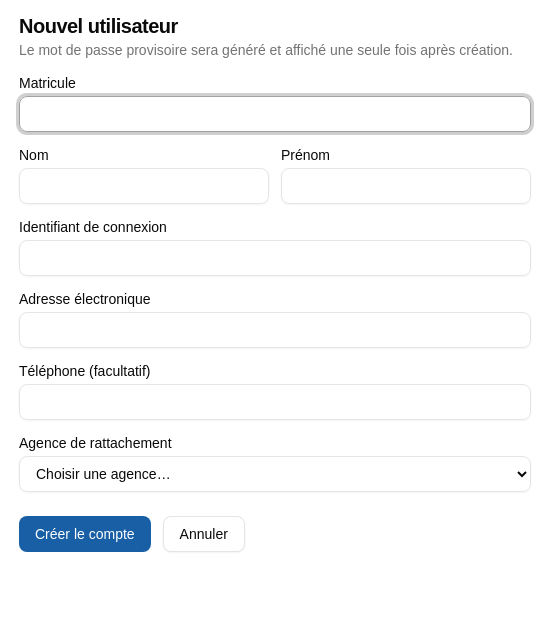
PageCreationUtilisateur › 409 : signale un identifiant déjà utilisé
Type "MAT-001" into the field labelled "Matricule". click: (275, 114)
box: [19,96,531,132]
Type "Diallo" into the field labelled "Nom". click: (144, 186)
box: [19,168,269,204]
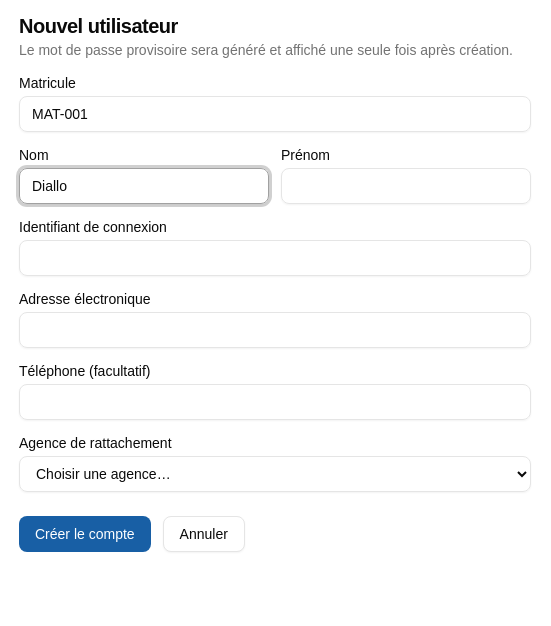
Type "Amadou" into the field labelled "Prénom". click: (406, 186)
box: [281,168,531,204]
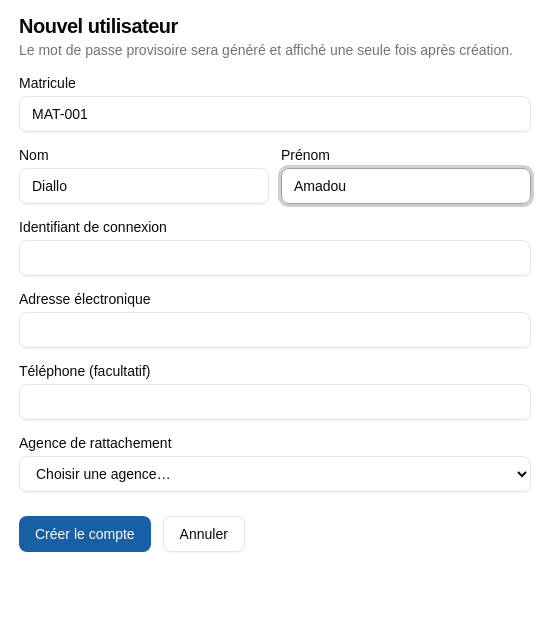
Type "adiallo" into the field labelled "Identifiant de connexion". click: (275, 258)
box: [19,240,531,276]
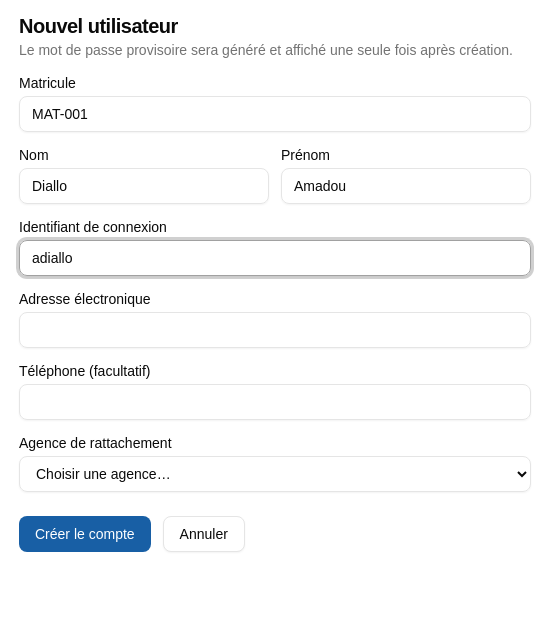
Type "a.diallo@imf.local" into the field labelled "Adresse électronique". click: (275, 330)
box: [19,312,531,348]
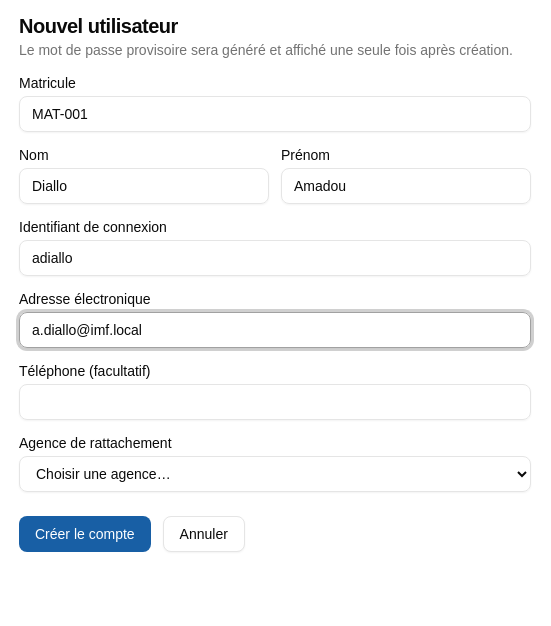
Select "Siège" in the dropdown labelled "Agence de rattachement". click: (275, 474)
box: [19,456,531,492]
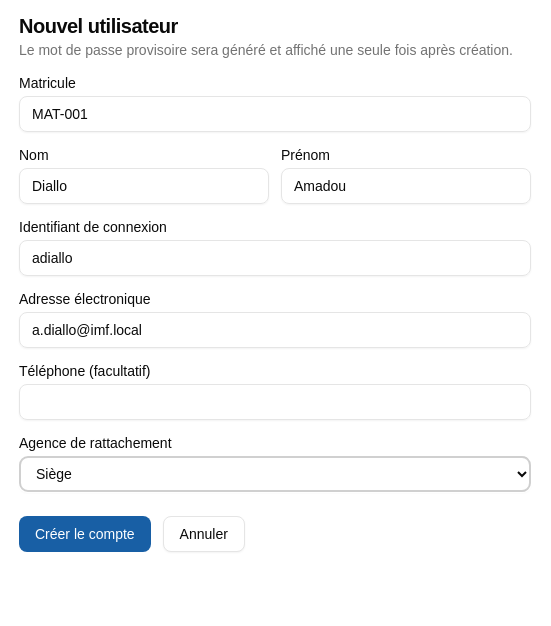
Click the button "Créer le compte". click: click(85, 534)
box: [19,516,151,552]
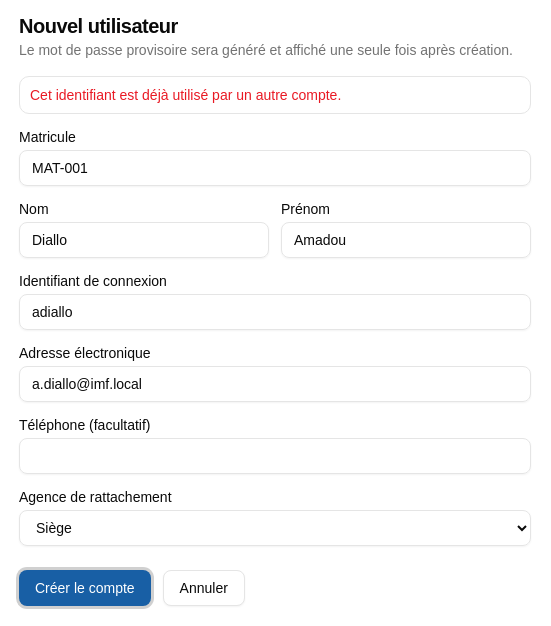
Result: the message shows "déjà utilisé" at [30,87,341,103]
